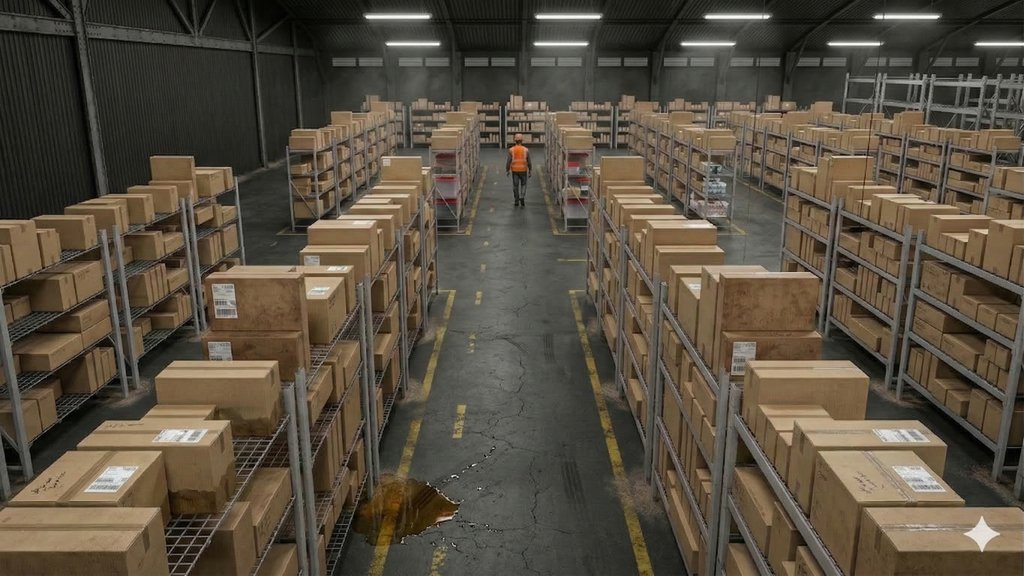empty_shelf: (842, 66, 1022, 114), (147, 482, 221, 556)
person: (499, 127, 541, 221)
safety_helmet: (510, 131, 525, 141)
safety_vest: (507, 144, 535, 174)
spill: (350, 464, 477, 556)
